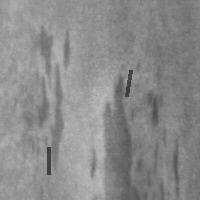inclusion: (21, 23, 73, 170), (85, 69, 138, 198), (135, 123, 182, 197), (142, 86, 163, 131), (124, 68, 132, 98), (46, 145, 50, 176)
